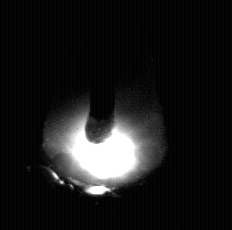arame: (90, 0, 116, 143)
poca: (43, 0, 166, 230)
